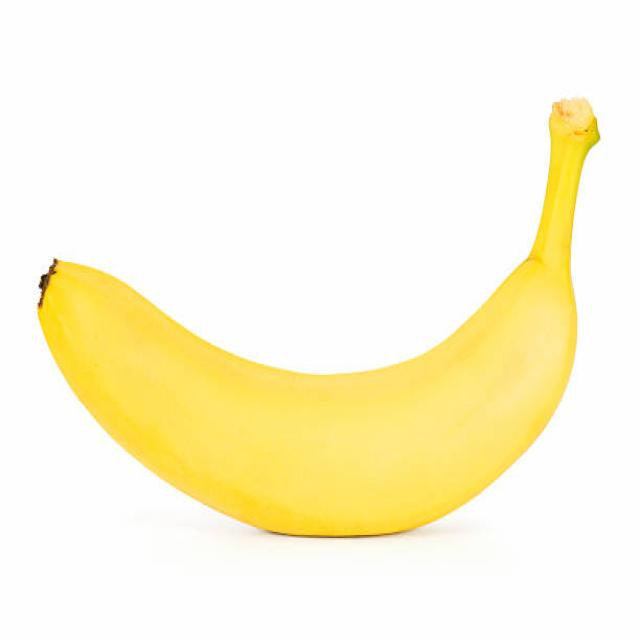Ripe: (34, 91, 586, 542)
